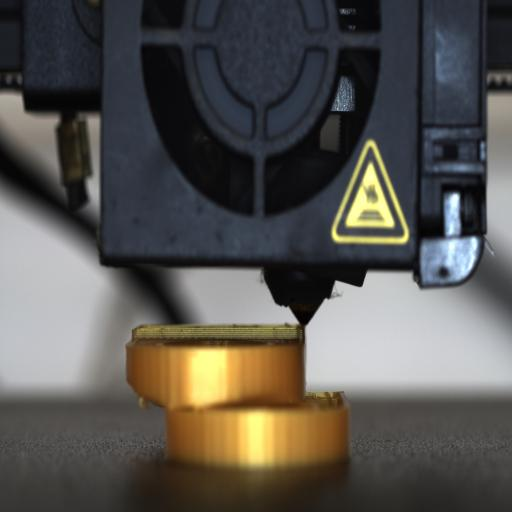layer_shift: (142, 387, 356, 413)
